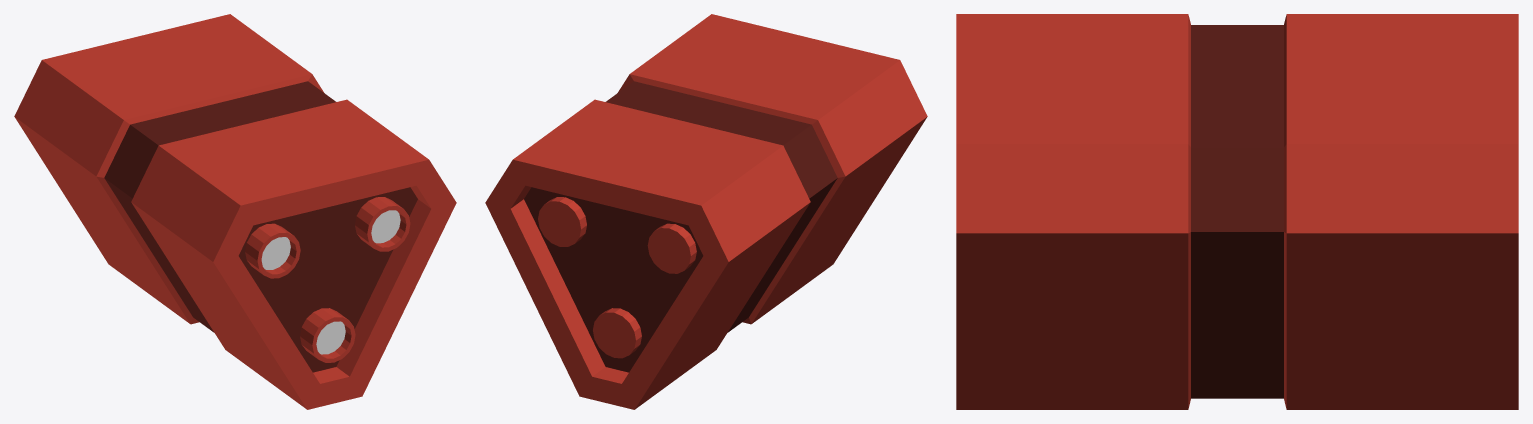
The model's file is rocketTurret.fbx.
3 renders of one model, left to right at view 1: azimuth 30°, elevation 25°; view 2: azimuth 150°, elevation 25°; view 3: azimuth 270°, elevation 25°, orthographic. The views are drawn at different scales.
Parts seen in each view (by area): view 1: Cylinder.004; view 2: Cylinder.004; view 3: Cylinder.004.
Part boxes in pixels (x1,y1,x2,y2): Cylinder.004: (14, 14, 456, 409); Cylinder.004: (485, 14, 927, 409); Cylinder.004: (956, 14, 1518, 409).
Size of the model in its own units: 27.01 by 23.39 by 38.22.
